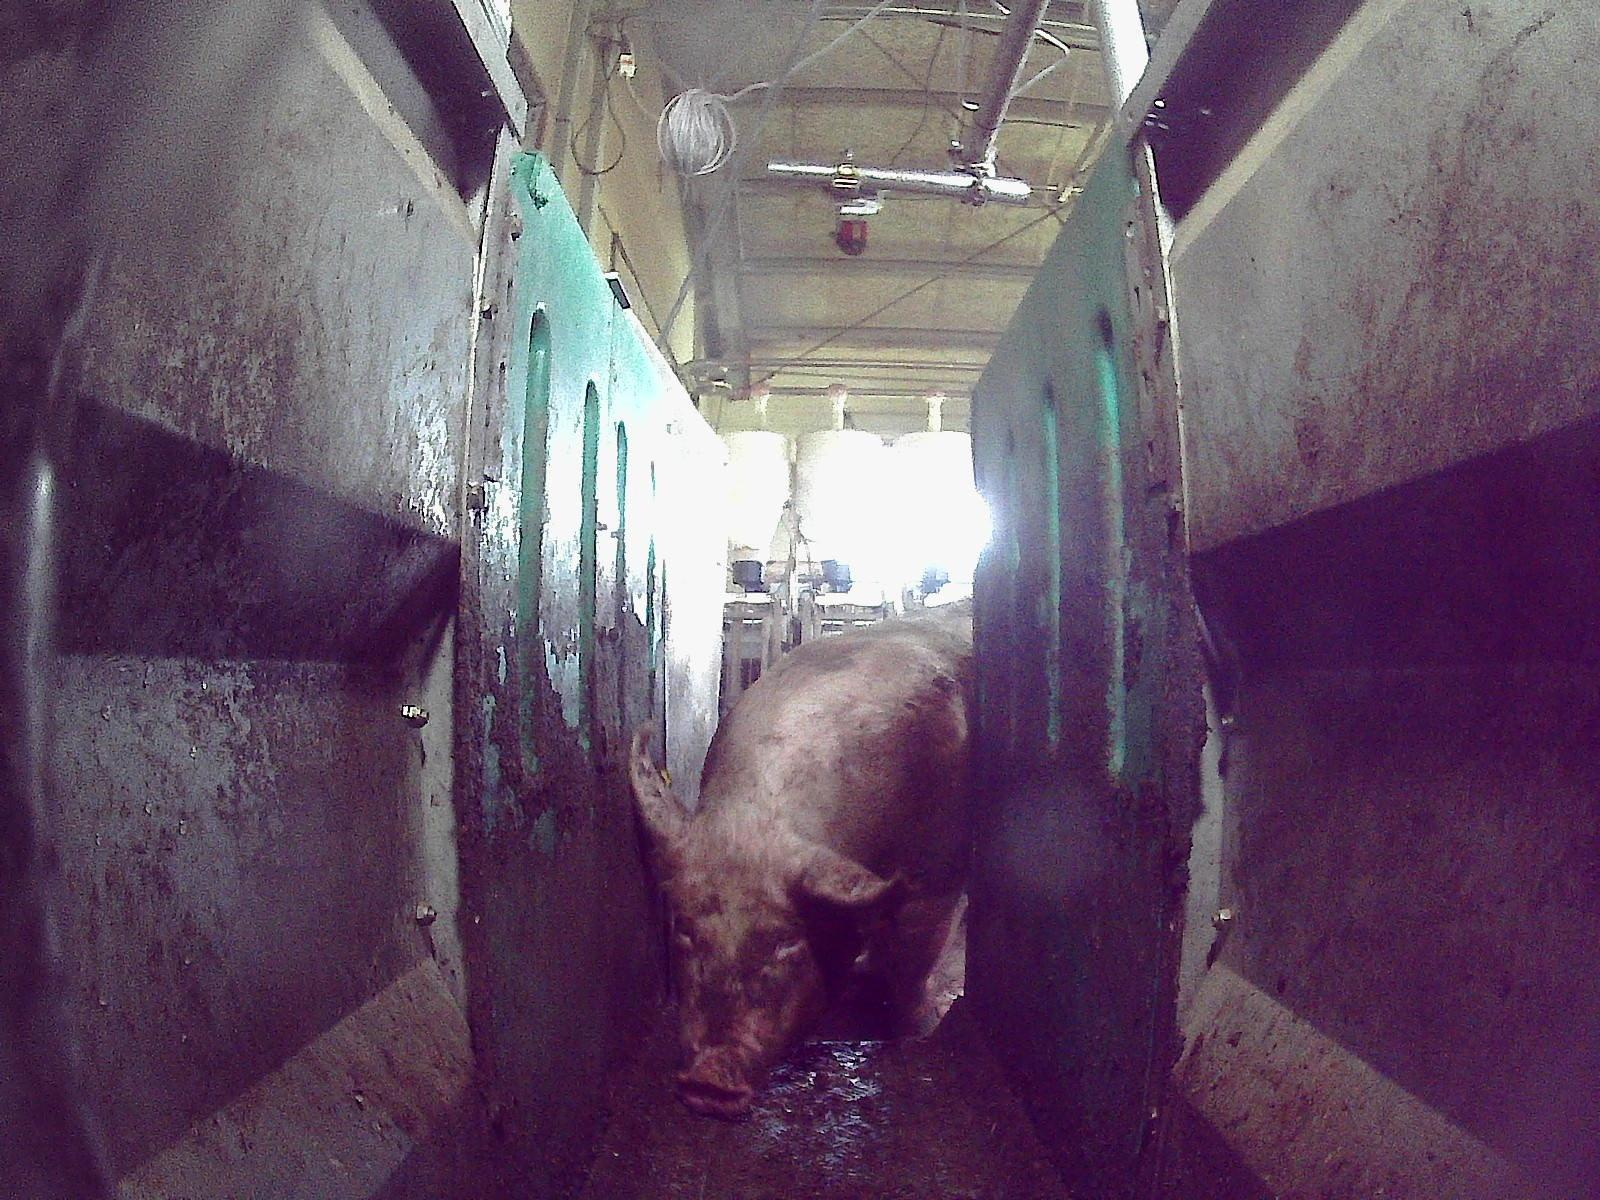Face: (667, 828, 847, 1109)
